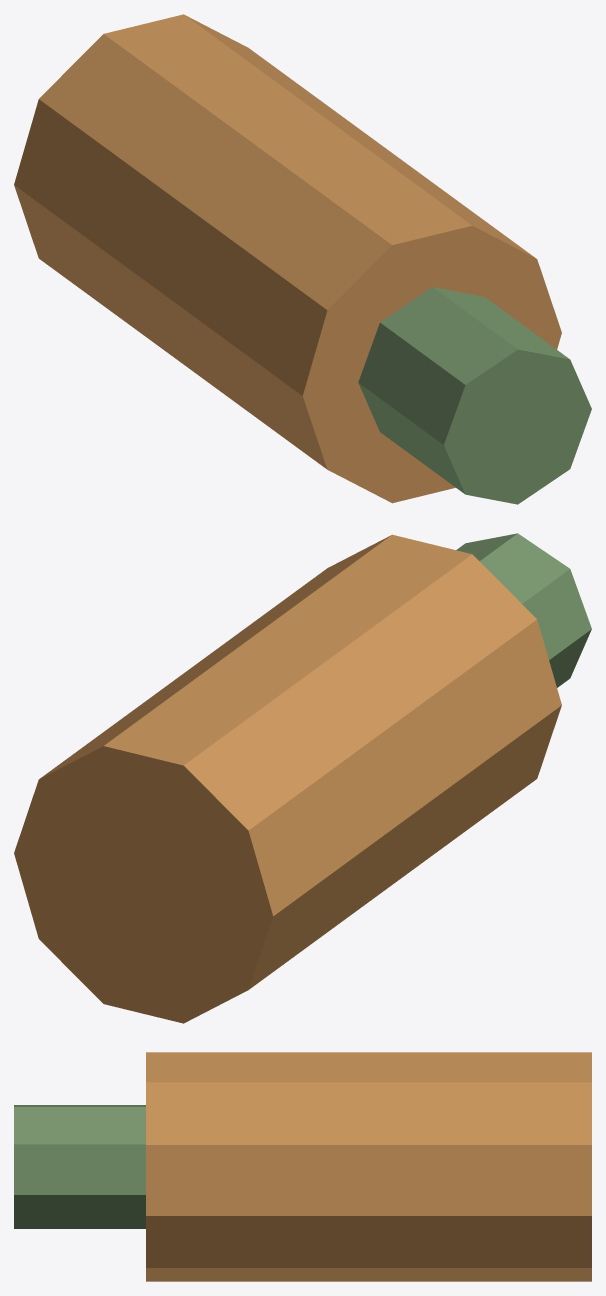
File: carrot.glb
The picture shows the model from 3 angles, top to bottom: view 1: azimuth 30°, elevation 25°; view 2: azimuth 150°, elevation 25°; view 3: azimuth 270°, elevation 25°; orthographic projection. The views are drawn at different scales.
Parts seen in each view (by area): view 1: 00_carrot, 01_greens; view 2: 00_carrot, 01_greens; view 3: 00_carrot, 01_greens.
Boxes of the visible parts, x1,y1,x2,y2 form: 00_carrot: (14, 14, 561, 503); 01_greens: (358, 287, 591, 504); 00_carrot: (14, 534, 561, 1023); 01_greens: (456, 533, 591, 687); 00_carrot: (146, 1052, 591, 1281); 01_greens: (14, 1105, 145, 1228).
Size of the model in its own units: 0.14 by 0.1331 by 0.35.
